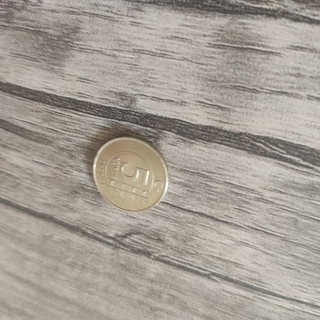5KURUS: (91, 135, 169, 214)
